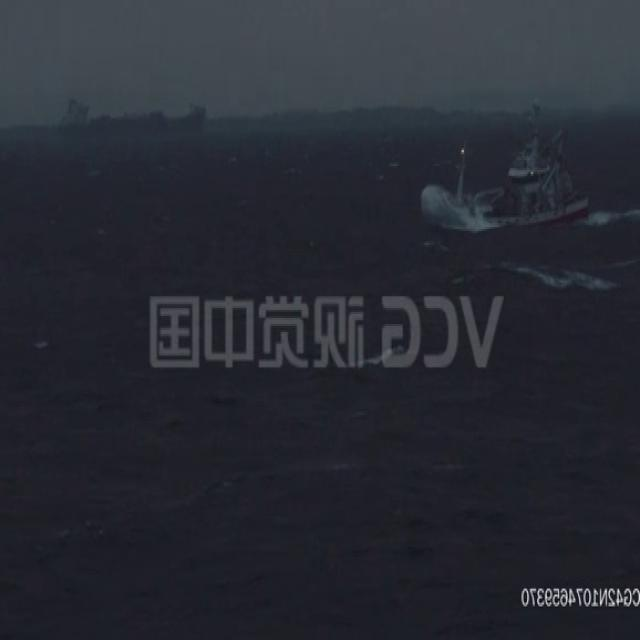houseboat: (419, 130, 596, 230)
